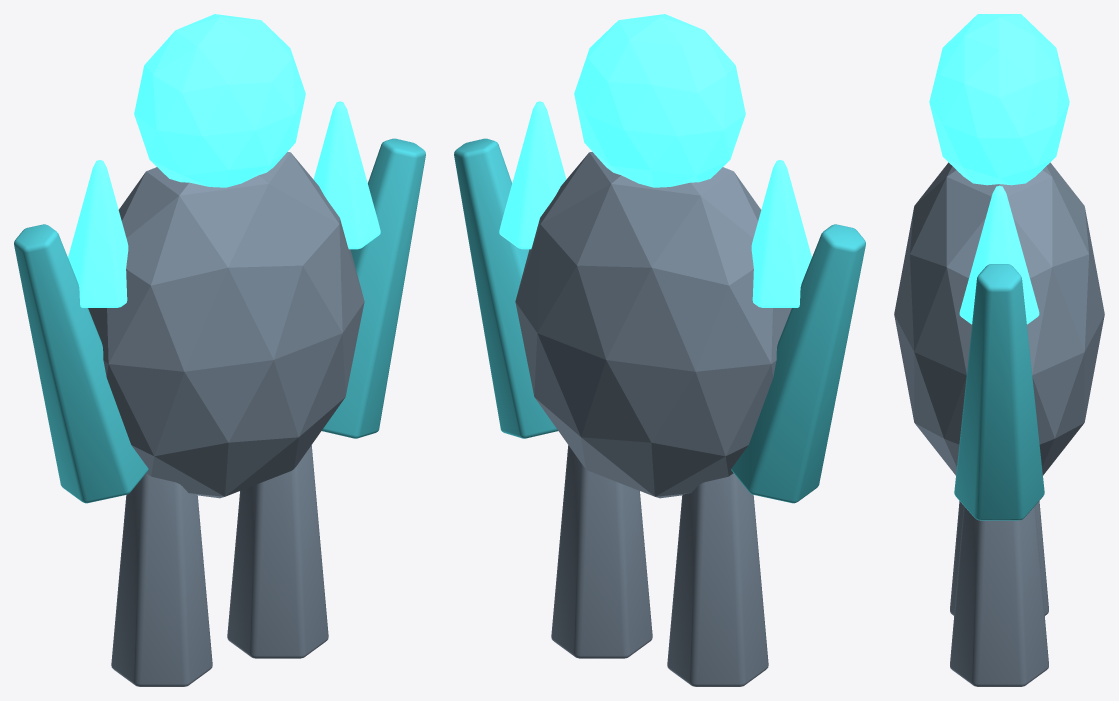
File: construct_v6.glb
3 renders of one model, left to right at view 1: azimuth 30°, elevation 25°; view 2: azimuth 150°, elevation 25°; view 3: azimuth 270°, elevation 25°, orthographic. The views are drawn at different scales.
Parts seen in each view (by area): view 1: SENTINEL_TORSO_PRIMARY, SENTINEL_HEAD_EMISSIVE, SENTINEL_ARM_ACCENT, SENTINEL_LEG_PRIMARY, SENTINEL_LEG_PRIMARY.001, SENTINEL_ARM_ACCENT.001, SENTINEL_SHOULDER_EMISSIVE, SENTINEL_SHOULDER_EMISSIVE.001; view 2: SENTINEL_TORSO_PRIMARY, SENTINEL_HEAD_EMISSIVE, SENTINEL_ARM_ACCENT, SENTINEL_LEG_PRIMARY, SENTINEL_LEG_PRIMARY.001, SENTINEL_ARM_ACCENT.001, SENTINEL_SHOULDER_EMISSIVE, SENTINEL_SHOULDER_EMISSIVE.001; view 3: SENTINEL_TORSO_PRIMARY, SENTINEL_HEAD_EMISSIVE, SENTINEL_ARM_ACCENT.001, SENTINEL_LEG_PRIMARY.001, SENTINEL_SHOULDER_EMISSIVE.001, SENTINEL_LEG_PRIMARY.
Part boxes in pixels (box(x1,y1,x2,y2)): SENTINEL_TORSO_PRIMARY: box(88, 152, 364, 498); SENTINEL_HEAD_EMISSIVE: box(134, 14, 305, 187); SENTINEL_ARM_ACCENT: box(14, 224, 148, 503); SENTINEL_LEG_PRIMARY: box(111, 473, 212, 686); SENTINEL_LEG_PRIMARY.001: box(227, 445, 328, 658); SENTINEL_ARM_ACCENT.001: box(322, 138, 425, 438); SENTINEL_SHOULDER_EMISSIVE: box(68, 160, 128, 307); SENTINEL_SHOULDER_EMISSIVE.001: box(313, 101, 380, 249); SENTINEL_TORSO_PRIMARY: box(515, 152, 791, 498); SENTINEL_HEAD_EMISSIVE: box(574, 14, 745, 187); SENTINEL_ARM_ACCENT: box(731, 224, 865, 503); SENTINEL_LEG_PRIMARY: box(667, 473, 768, 686); SENTINEL_LEG_PRIMARY.001: box(551, 445, 652, 658); SENTINEL_ARM_ACCENT.001: box(454, 138, 557, 438); SENTINEL_SHOULDER_EMISSIVE: box(751, 160, 811, 307); SENTINEL_SHOULDER_EMISSIVE.001: box(499, 101, 566, 249); SENTINEL_TORSO_PRIMARY: box(894, 162, 1104, 475); SENTINEL_HEAD_EMISSIVE: box(929, 14, 1069, 185); SENTINEL_ARM_ACCENT.001: box(954, 264, 1044, 520); SENTINEL_LEG_PRIMARY.001: box(950, 506, 1048, 686); SENTINEL_SHOULDER_EMISSIVE.001: box(959, 185, 1039, 324); SENTINEL_LEG_PRIMARY: box(950, 501, 1048, 615).
Size of the model in its own units: 1.52 by 2.3 by 0.702.
